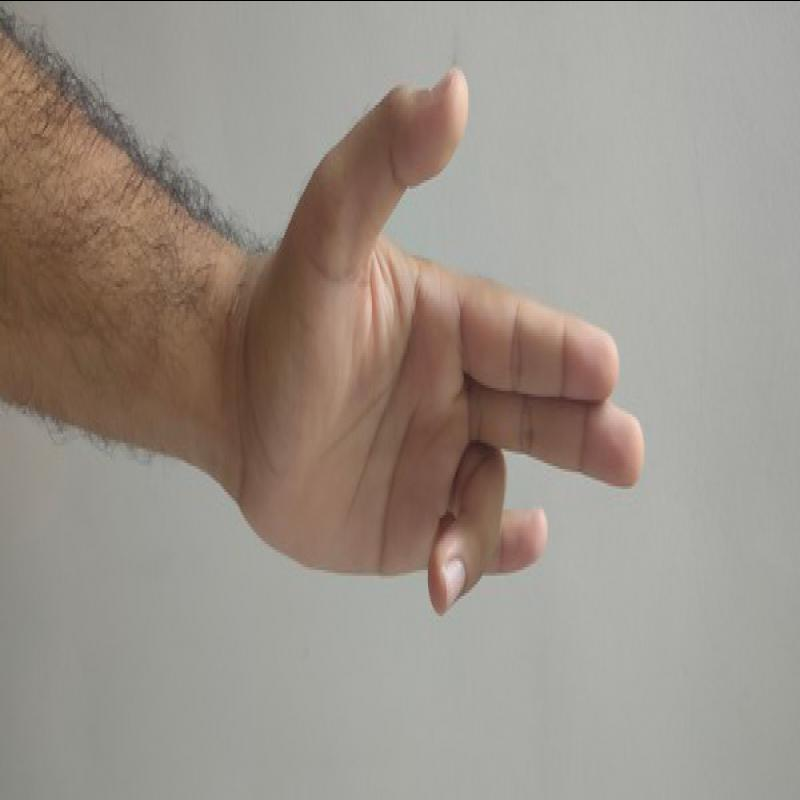Pathaaka: (235, 54, 661, 634)
